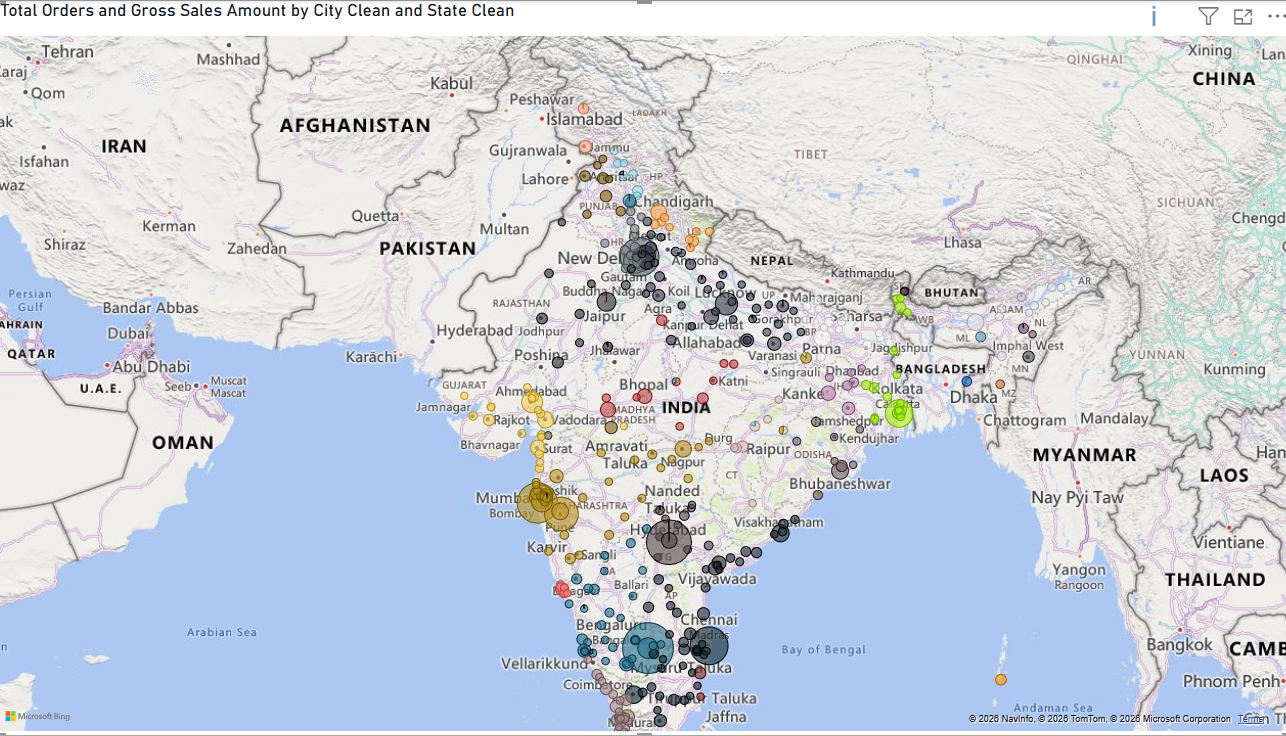

The page's visual inventory and layout, read from the dashboard file:
{"tool":"powerbi","page":{"name":"Geographic Wise Distributions","canvas":[1280,720],"ordinal":4},"visuals":[{"type":"map","fields":{"Category":["Fact_Amazon_Sales.City Clean"],"Size":["Fact_Amazon_Sales.Total Orders"],"Series":["Fact_Amazon_Sales.State Clean"]},"box":[9.8,0,1270.5,720.2],"z":0}]}

Visuals, with their boxes in screenshot pixels (x1, y1, x2, y2), scaled from the page's 1280x720 canvas onto the 1286x736 screenshot:
map - Fact_Amazon_Sales.City Clean x Fact_Amazon_Sales.Total Orders: x1=10, y1=0, x2=1285, y2=735
